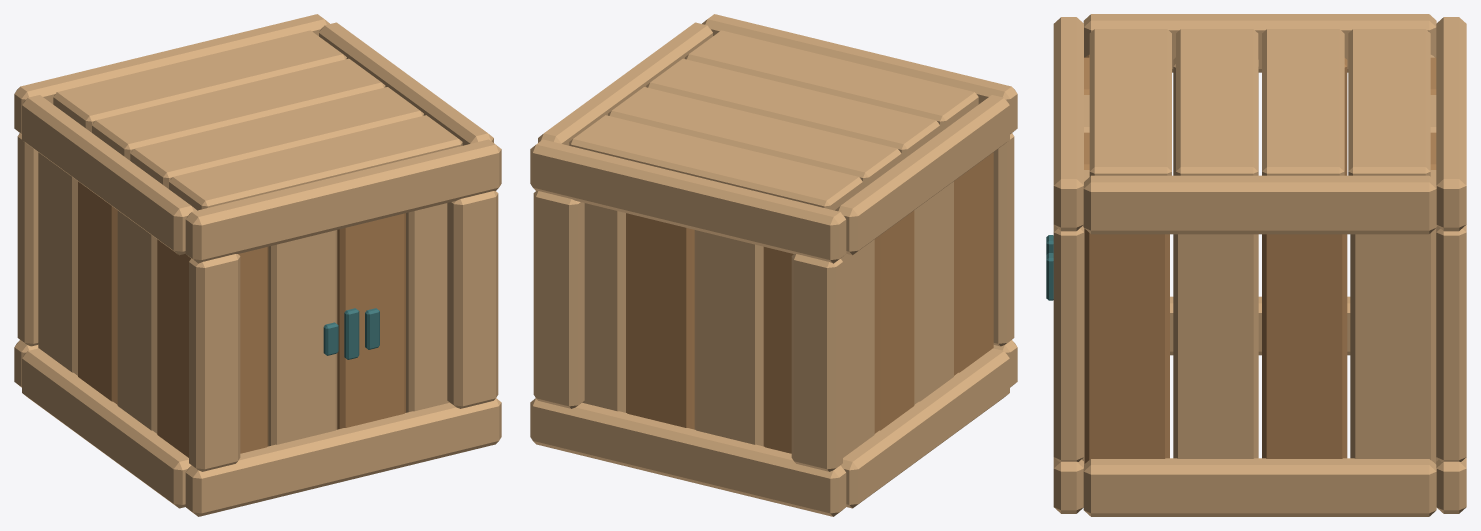
The picture shows the model from 3 angles, left to right: view 1: azimuth 30°, elevation 25°; view 2: azimuth 150°, elevation 25°; view 3: azimuth 270°, elevation 25°; orthographic projection. The views are drawn at different scales.
Visible parts, largest first — view 1: harbor-crate-01; view 2: harbor-crate-01; view 3: harbor-crate-01.
Part boxes in pixels (x1,y1,x2,y2): harbor-crate-01: (14,14,501,516); harbor-crate-01: (530,14,1017,516); harbor-crate-01: (1046,14,1466,516).
Bounding box in the file's own units: 1.01 × 0.9 × 1.02.
